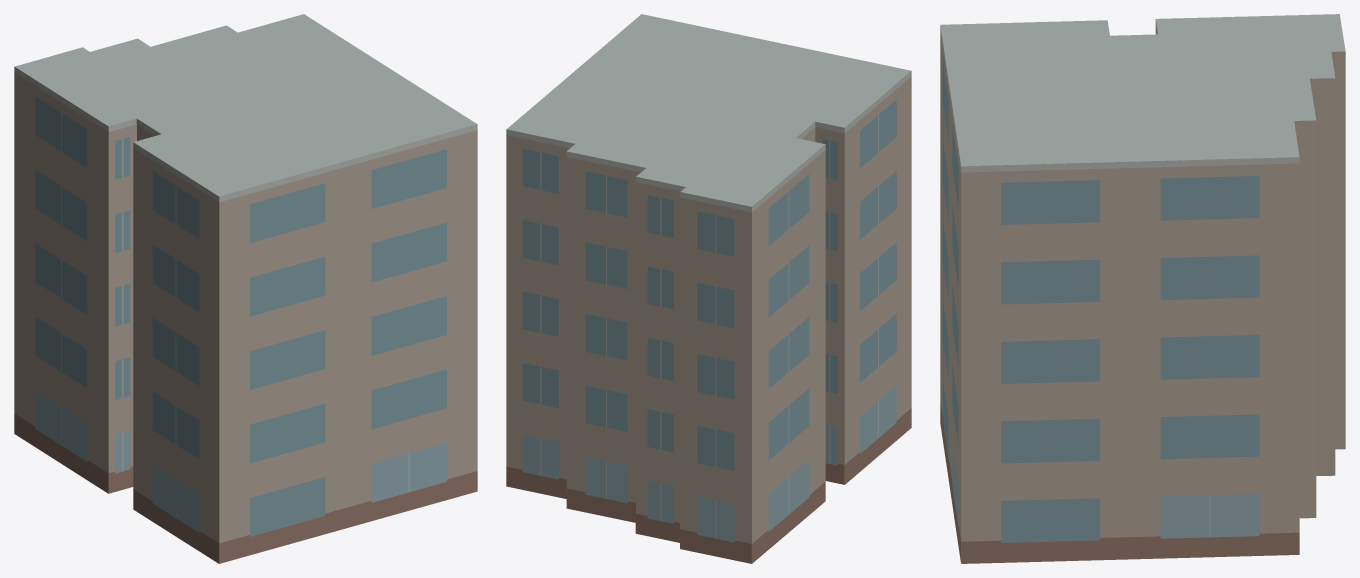
The model's file is survey-upis-32620395.glb.
The picture shows the model from 3 angles, left to right: view 1: azimuth 30°, elevation 25°; view 2: azimuth 150°, elevation 25°; view 3: azimuth 270°, elevation 25°; orthographic projection. The views are drawn at different scales.
Visible parts, largest first — view 1: survey-upis-32620395.tmp; view 2: survey-upis-32620395.tmp; view 3: survey-upis-32620395.tmp.
Boxes of the visible parts, <box> form: survey-upis-32620395.tmp: <box>14,14,477,563</box>; survey-upis-32620395.tmp: <box>506,14,911,563</box>; survey-upis-32620395.tmp: <box>940,14,1345,563</box>.
Bounding box in the file's own units: 12.74 × 15.5 × 14.33.
